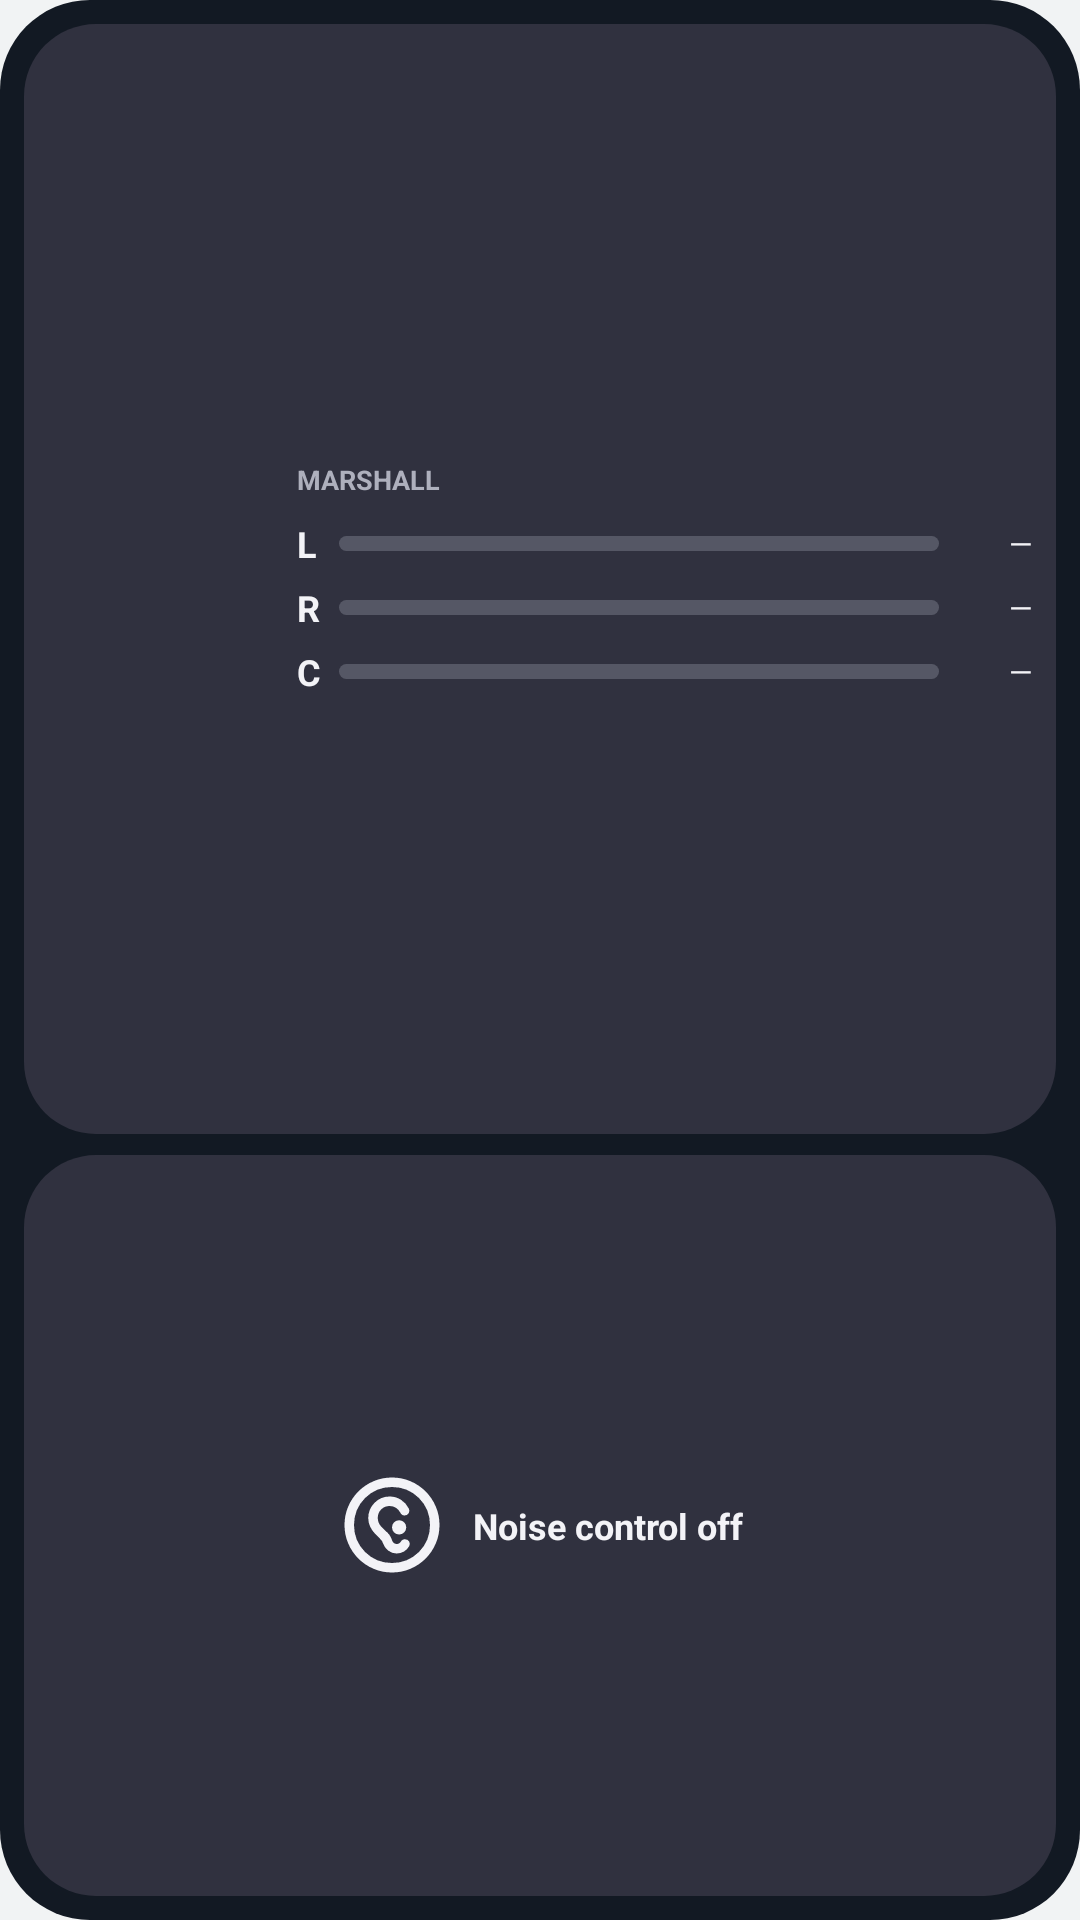

Icons on this 1080w x 1920h Android screen, each with its box as box(x1, y1, x2, y2):
Toggle noise control: box(344, 1477, 440, 1573)
